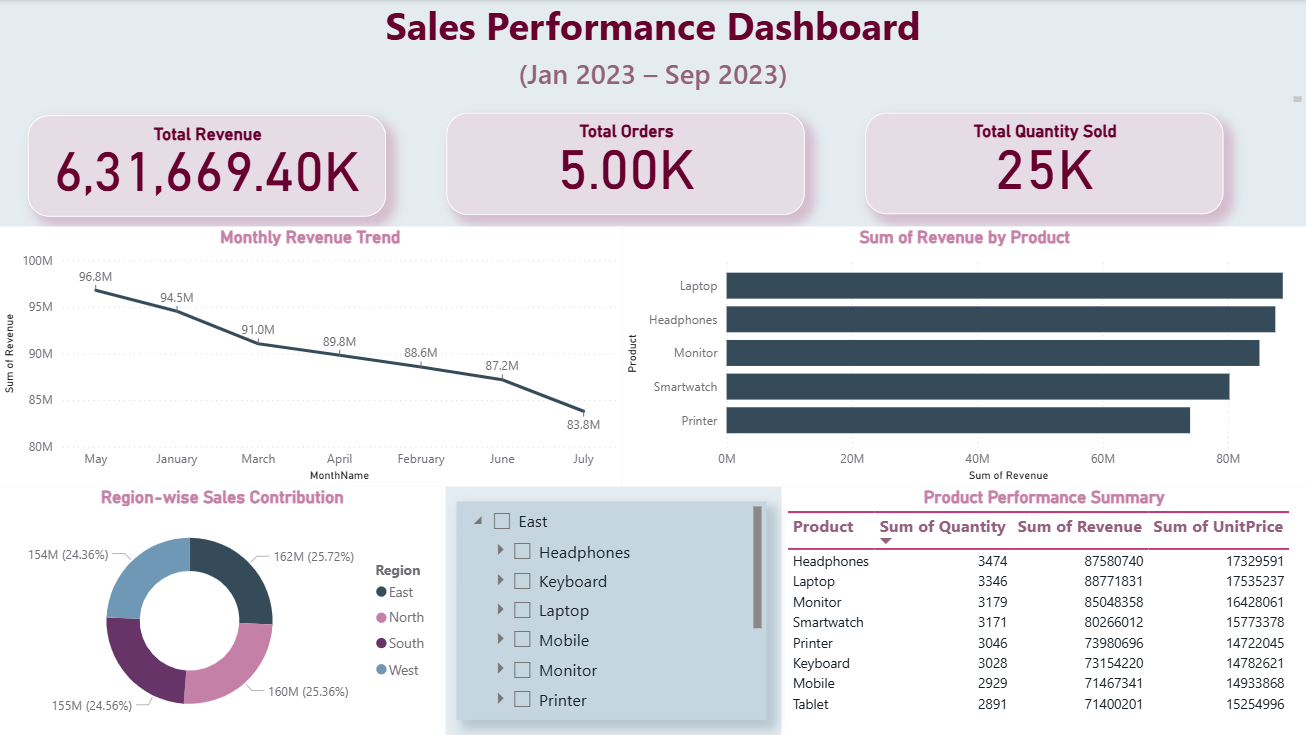

Layout of this report page (visuals, bound fields, positions):
{"tool":"powerbi","page":{"name":"Page 1","canvas":[1280,720],"ordinal":0},"visuals":[{"type":"card","title":"Total Revenue","fields":{"Values":["Sum(Sales_Data_5000_Rows.Revenue)"]},"box":[28.3,113.2,350.7,99.1],"z":0},{"type":"card","title":"Total Orders","fields":{"Values":["CountNonNull(Sales_Data_5000_Rows.OrderID)"]},"box":[437.6,111.5,350.7,100],"z":1000},{"type":"card","title":"Total Quantity Sold","fields":{"Values":["Sum(Sales_Data_5000_Rows.Quantity)"]},"box":[847.6,111.6,350.7,99.1],"z":2000},{"type":"lineChart","title":"Monthly Revenue Trend","fields":{"Category":["Sales_Data_5000_Rows.MonthName"],"Y":["Sum(Sales_Data_5000_Rows.Revenue)"]},"box":[0,222.1,609,254.3],"z":3000},{"type":"clusteredBarChart","fields":{"Category":["Sales_Data_5000_Rows.Product"],"Y":["Sum(Sales_Data_5000_Rows.Revenue)"]},"box":[609,222.1,671.6,254.3],"z":4000},{"type":"donutChart","title":"Region-wise Sales Contribution","fields":{"Category":["Sales_Data_5000_Rows.Region"],"Y":["Sum(Sales_Data_5000_Rows.Revenue)"]},"box":[0,476.5,437.1,243.7],"z":5000},{"type":"tableEx","title":"Product Performance Summary","fields":{"Values":["Sales_Data_5000_Rows.Product","Sum(Sales_Data_5000_Rows.Quantity)","Sum(Sales_Data_5000_Rows.Revenue)","Sum(Sales_Data_5000_Rows.UnitPrice)"]},"box":[765.8,476.5,514.2,243.7],"z":6000},{"type":"slicer","fields":{"Values":["Sales_Data_5000_Rows.Region","Sales_Data_5000_Rows.Product","Sales_Data_5000_Rows.Year"]},"box":[448.2,492.2,303.5,213.9],"z":7000},{"type":"textbox","title":"Sales Performance Dashboard","box":[0,0,1279.7,105.7],"z":8000}]}

Visuals, with their boxes in screenshot pixels (x1, y1, x2, y2), scaled from the page's 1280x720 canvas onto the 1306x735 screenshot:
"Total Revenue" card: bbox=[29, 116, 387, 217]
"Total Orders" card: bbox=[446, 114, 804, 216]
"Total Quantity Sold" card: bbox=[865, 114, 1223, 215]
"Monthly Revenue Trend" lineChart: bbox=[0, 227, 621, 486]
clusteredBarChart - Sales_Data_5000_Rows.Product x Sum(Sales_Data_5000_Rows.Revenue): bbox=[621, 227, 1305, 486]
"Region-wise Sales Contribution" donutChart: bbox=[0, 486, 446, 734]
"Product Performance Summary" tableEx: bbox=[781, 486, 1305, 734]
slicer - Sales_Data_5000_Rows.Region x Sales_Data_5000_Rows.Product: bbox=[457, 502, 767, 721]
"Sales Performance Dashboard" textbox: bbox=[0, 0, 1305, 108]
